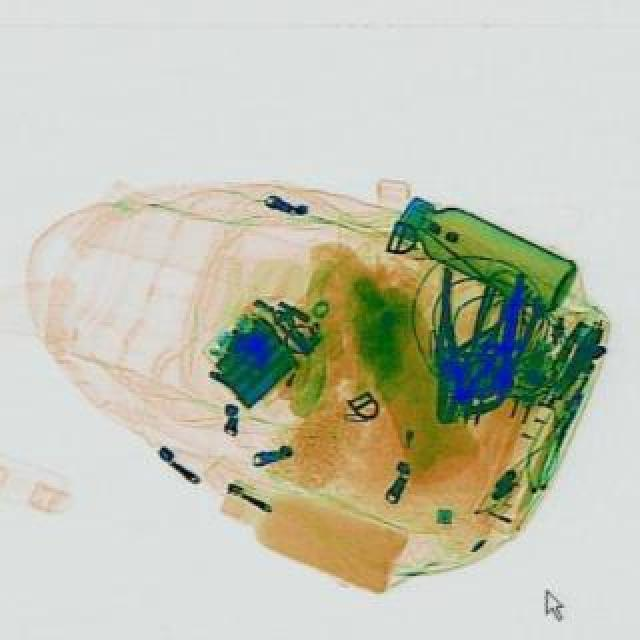wrench: (416, 266, 496, 426), (434, 280, 506, 428)
